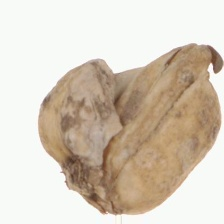L1: (60, 159, 122, 217)
L2: (38, 43, 224, 217)
